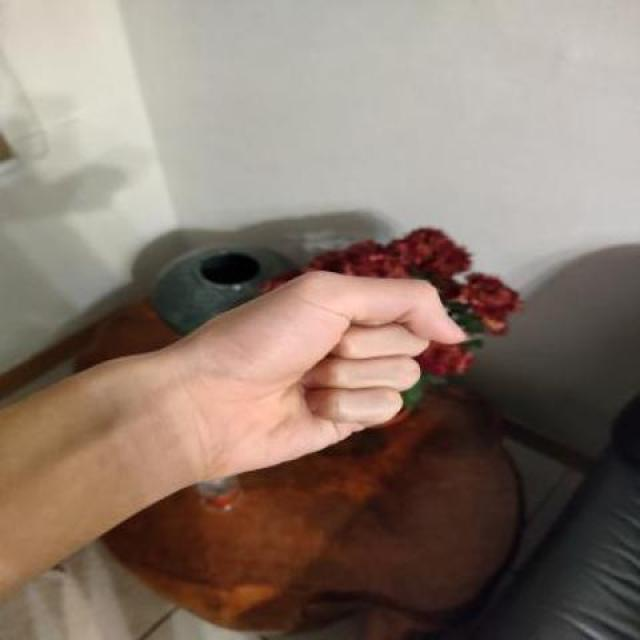Closed Hand: (170, 236, 462, 487)
